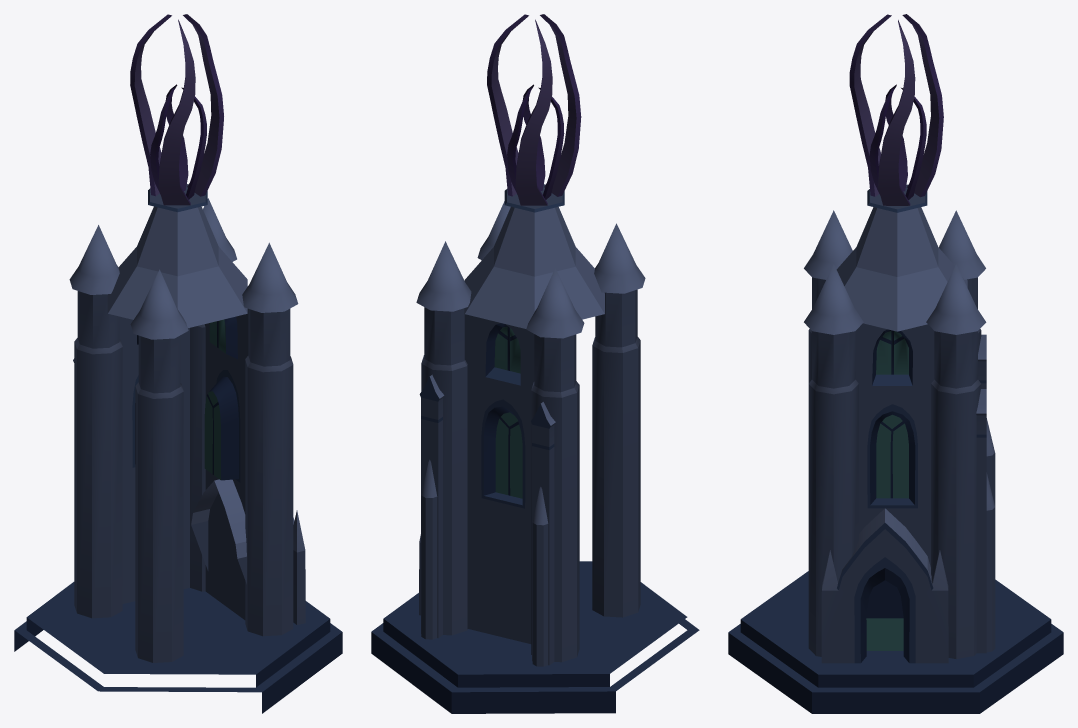
Rendered from tower2.fbx.
3 views of the same model, side by side, from view 1: azimuth 30°, elevation 25°; view 2: azimuth 150°, elevation 25°; view 3: azimuth 270°, elevation 25° (orthographic).
Parts seen in each view (by area): view 1: polySurface137; view 2: polySurface137; view 3: polySurface137.
Boxes of the visible parts, x1,y1,x2,y2 form: polySurface137: (14, 14, 342, 713); polySurface137: (371, 14, 699, 713); polySurface137: (728, 14, 1063, 713).
Size of the model in its own units: 262 by 650 by 310.
